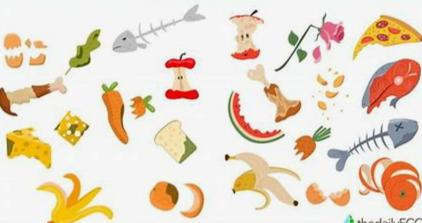organic: (327, 117, 420, 172), (113, 3, 207, 54), (224, 151, 302, 210), (274, 13, 346, 73), (36, 172, 114, 223), (360, 58, 421, 115), (357, 157, 420, 212), (352, 13, 422, 62), (246, 63, 301, 123), (227, 90, 285, 143), (0, 75, 68, 117), (152, 119, 198, 164), (6, 127, 52, 169), (100, 81, 130, 143), (64, 28, 101, 78), (164, 52, 200, 101), (229, 8, 262, 60), (294, 126, 332, 160), (55, 110, 90, 146), (149, 180, 180, 212), (179, 182, 205, 218), (3, 32, 24, 69), (24, 37, 47, 67), (305, 181, 328, 205), (130, 94, 152, 119), (328, 188, 351, 207), (333, 75, 345, 89), (315, 74, 329, 86), (325, 90, 339, 99), (317, 100, 328, 110)
